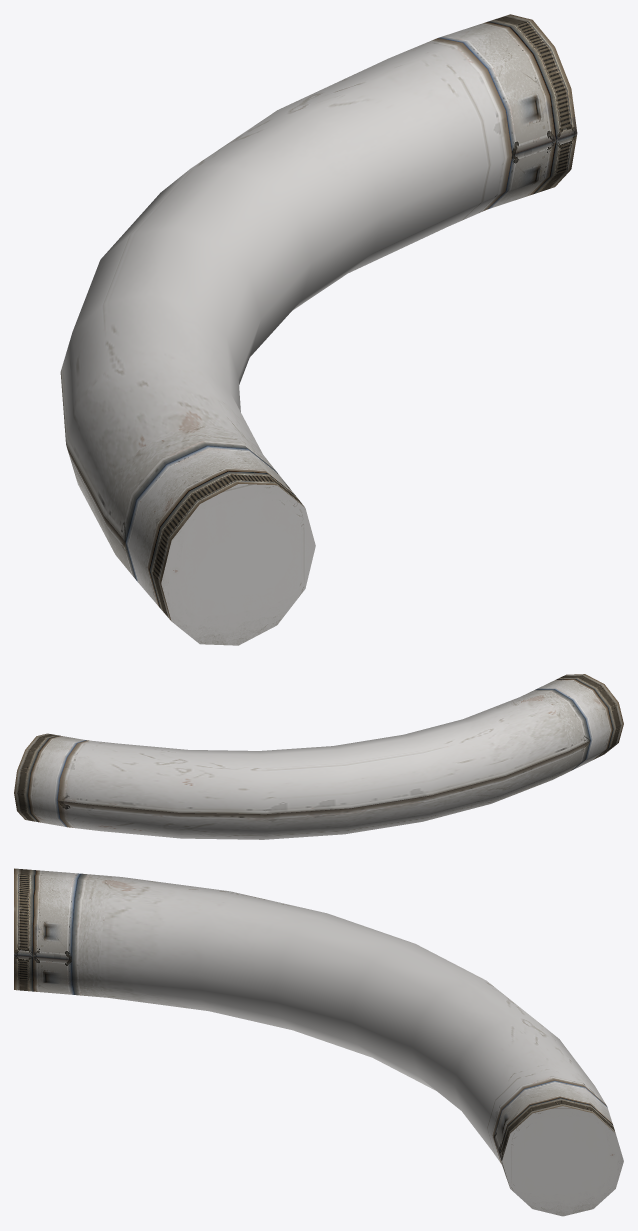
Rendered from scifi_pipe_medium_curve2_2.FBX.
3 renders of one model, top to bottom at view 1: azimuth 30°, elevation 25°; view 2: azimuth 150°, elevation 25°; view 3: azimuth 270°, elevation 25°, orthographic. The views are drawn at different scales.
Visible parts, largest first — view 1: Cylinder031; view 2: Cylinder031; view 3: Cylinder031.
Part boxes in pixels (x1,y1,x2,y2): Cylinder031: (60, 14, 577, 645); Cylinder031: (14, 674, 623, 839); Cylinder031: (14, 868, 623, 1216).
Bounding box in the file's own units: 254 × 50.8 × 254.
